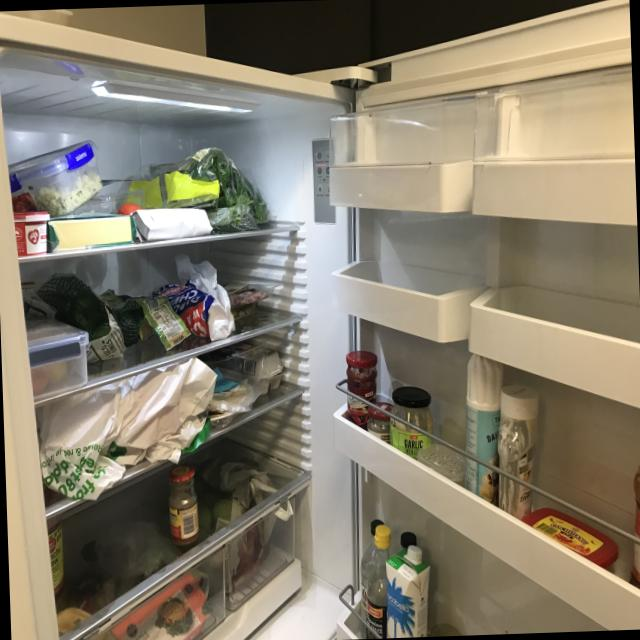Queso: (48, 213, 132, 250)
spinach: (190, 144, 271, 226)
